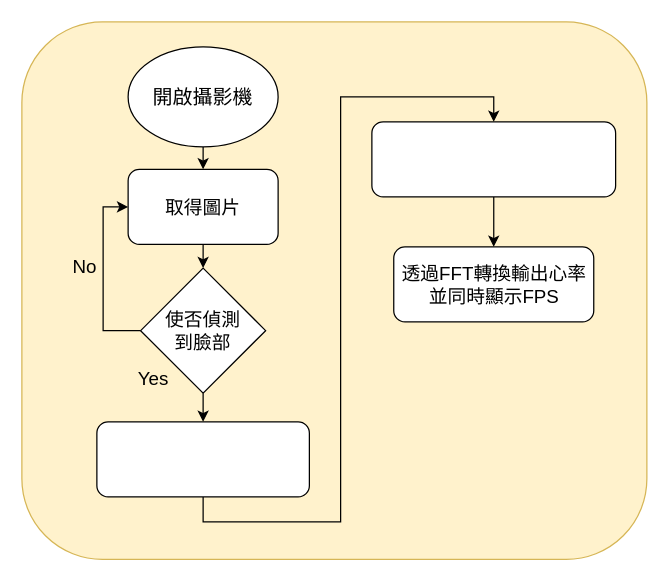
Some shapes in this 669 by 581 pixel diagram are drawn without their labels. The shapes that lost their labels are listed below. From the top down, each one's centre as x and y in pixels, then its label:
At (x=493, y=159): "送進模型取得 rPPG signal".
At (x=202, y=459): "取得座標後取256帧".
